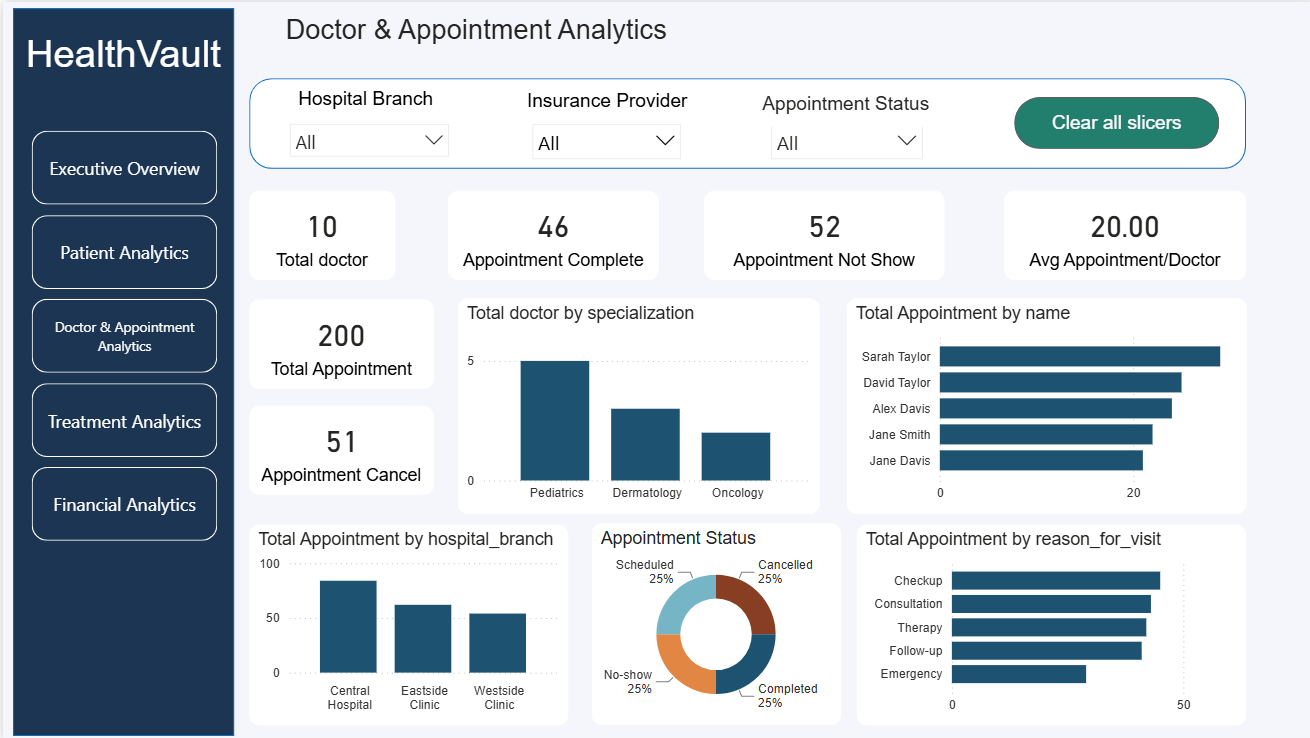

The dashboard page shown, as its layout file describes it:
{"tool":"powerbi","page":{"name":"Doctor & Appointment Analytics","canvas":[1280,720],"ordinal":2},"visuals":[{"type":"shape","box":[10,5.7,215.7,710],"z":0},{"type":"textbox","box":[9.9,23.9,215.5,63.4],"z":1000},{"type":"pageNavigator","box":[28.6,125.7,181.4,400],"z":2000},{"type":"textbox","box":[270.5,7.6,400.1,48.3],"z":3000},{"type":"shape","box":[240.6,73.9,972.5,88.4],"z":4000},{"type":"actionButton","box":[987,92.8,200,50.7],"z":5000},{"type":"card","fields":{"Values":["doctor_measure.Total doctor"]},"box":[240,184.3,142,87],"z":6000},{"type":"card","fields":{"Values":["appointment_measure.Total Appointment"]},"box":[240,290,180,87.1],"z":7000},{"type":"card","fields":{"Values":["doctor_measure.Appointment Complete"]},"box":[434.3,184.3,205.7,87.1],"z":8000},{"type":"card","fields":{"Values":["appointment_measure.Avg Appointment/Doctor"]},"box":[977.1,184.3,235.7,87.1],"z":9000},{"type":"card","fields":{"Values":["doctor_measure.Appointment Cancle"]},"box":[240,394.3,180,87.1],"z":10000},{"type":"card","fields":{"Values":["appointment_measure.Appointment Not Show"]},"box":[684.3,184.3,234.3,87.1],"z":11000},{"type":"donutChart","title":"Appointment Status","fields":{"Category":["appointments.status"],"Y":["CountNonNull(patients.patient_id)"]},"box":[574.3,508.6,242.9,197.1],"z":12000},{"type":"columnChart","fields":{"Category":["doctors.specialization"],"Y":["doctor_measure.Total doctor"]},"box":[444.3,288.6,352.9,210],"z":13000},{"type":"columnChart","fields":{"Category":["doctors.hospital_branch"],"Y":["appointment_measure.Total Appointment"]},"box":[240,510,311.4,195.7],"z":14000},{"type":"clusteredBarChart","fields":{"Category":["appointments.reason_for_visit"],"Y":["appointment_measure.Total Appointment"]},"box":[832.9,510,380,195.7],"z":15000},{"type":"textbox","box":[262.5,78.8,182.6,42],"z":16000},{"type":"textbox","box":[505.6,80.6,178.3,37.7],"z":17000},{"type":"slicer","fields":{"Values":["doctors.hospital_branch"]},"box":[269.6,108.7,175.4,44.9],"z":18000},{"type":"slicer","fields":{"Values":["patients.insurance_provider"]},"box":[505.8,108.7,165.2,47.8],"z":19000},{"type":"slicer","fields":{"Values":["appointments.status"]},"box":[739.1,108.7,168.1,50.7],"z":20000},{"type":"textbox","box":[724.6,84.1,195.7,37.7],"z":21000},{"type":"clusteredBarChart","fields":{"Category":["doctors.name"],"Y":["appointment_measure.Total Appointment"]},"box":[822.9,288.6,390,210],"z":22000}]}

Visuals, with their boxes in screenshot pixels (x1, y1, x2, y2), scaled from the page's 1280x720 canvas onto the 1310x738 screenshot:
shape: bbox(10, 6, 231, 734)
textbox: bbox(10, 24, 231, 89)
pageNavigator: bbox(29, 129, 215, 539)
textbox: bbox(277, 8, 686, 57)
shape: bbox(246, 76, 1242, 166)
actionButton: bbox(1010, 95, 1215, 147)
card - doctor_measure.Total doctor: bbox(246, 189, 391, 278)
card - appointment_measure.Total Appointment: bbox(246, 297, 430, 387)
card - doctor_measure.Appointment Complete: bbox(444, 189, 655, 278)
card - appointment_measure.Avg Appointment/Doctor: bbox(1000, 189, 1241, 278)
card - doctor_measure.Appointment Cancle: bbox(246, 404, 430, 493)
card - appointment_measure.Appointment Not Show: bbox(700, 189, 940, 278)
"Appointment Status" donutChart: bbox(588, 521, 836, 723)
columnChart - doctors.specialization x doctor_measure.Total doctor: bbox(455, 296, 816, 511)
columnChart - doctors.hospital_branch x appointment_measure.Total Appointment: bbox(246, 523, 564, 723)
clusteredBarChart - appointments.reason_for_visit x appointment_measure.Total Appointment: bbox(852, 523, 1241, 723)
textbox: bbox(269, 81, 456, 124)
textbox: bbox(517, 83, 700, 121)
slicer - doctors.hospital_branch: bbox(276, 111, 455, 157)
slicer - patients.insurance_provider: bbox(518, 111, 687, 160)
slicer - appointments.status: bbox(756, 111, 928, 163)
textbox: bbox(742, 86, 942, 125)
clusteredBarChart - doctors.name x appointment_measure.Total Appointment: bbox(842, 296, 1241, 511)
